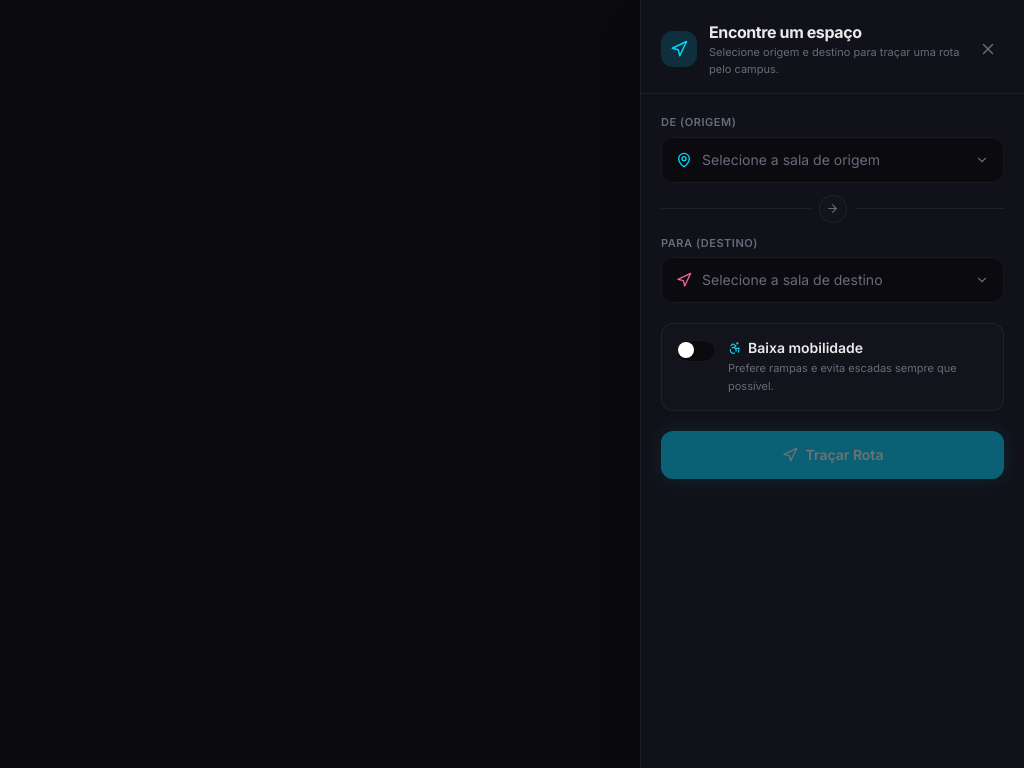
Test: RouteDrawer Component › deve selecionar origem e destino e calcular a rota com sucesso
This screenshot has width=1024, height=768.
# Abre Combobox de Origem e Seleciona Sala 01
Click the button "Selecione a sala de origem": (832, 160) [661, 136, 1004, 182]
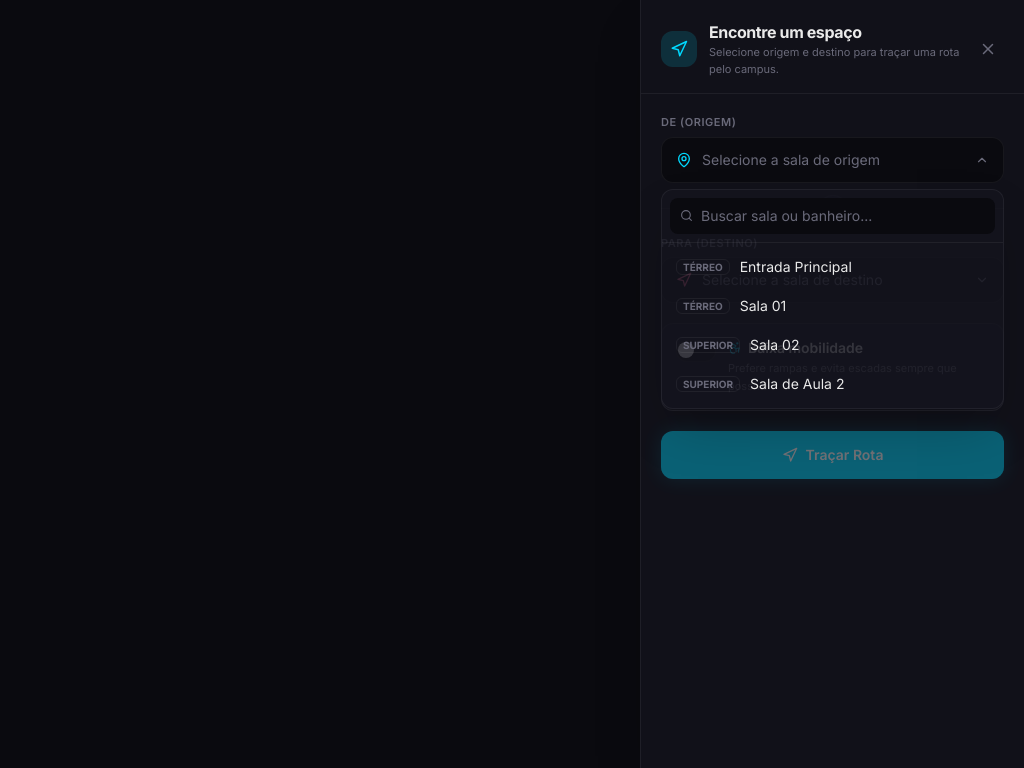
Click the text "Sala 01": (763, 305) [740, 296, 786, 315]
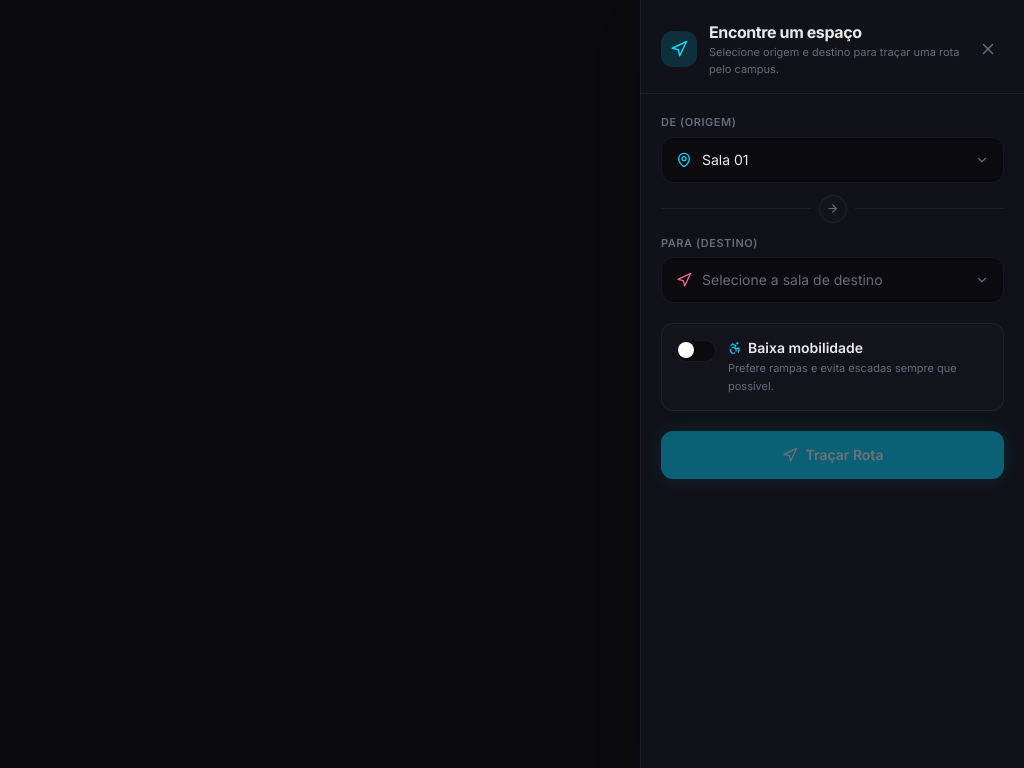
# Abre Combobox de Destino e Seleciona Sala 02
Click the button "Selecione a sala de destino": (832, 280) [661, 257, 1004, 303]
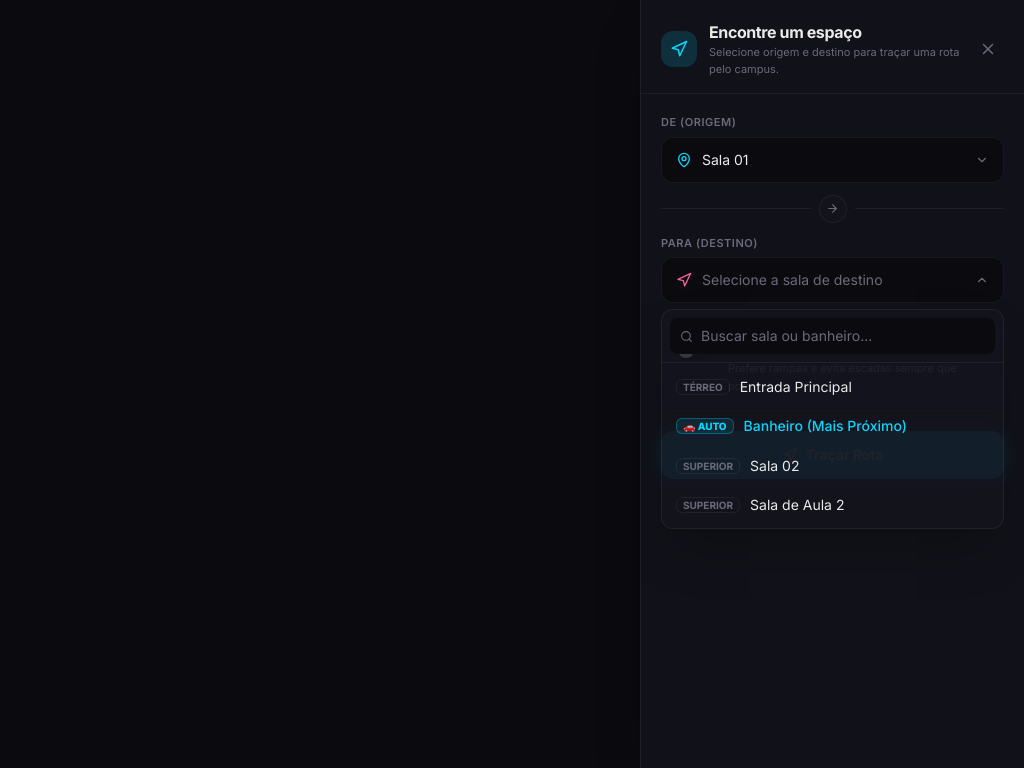
Click the text "Sala 02": (775, 465) [750, 456, 800, 475]
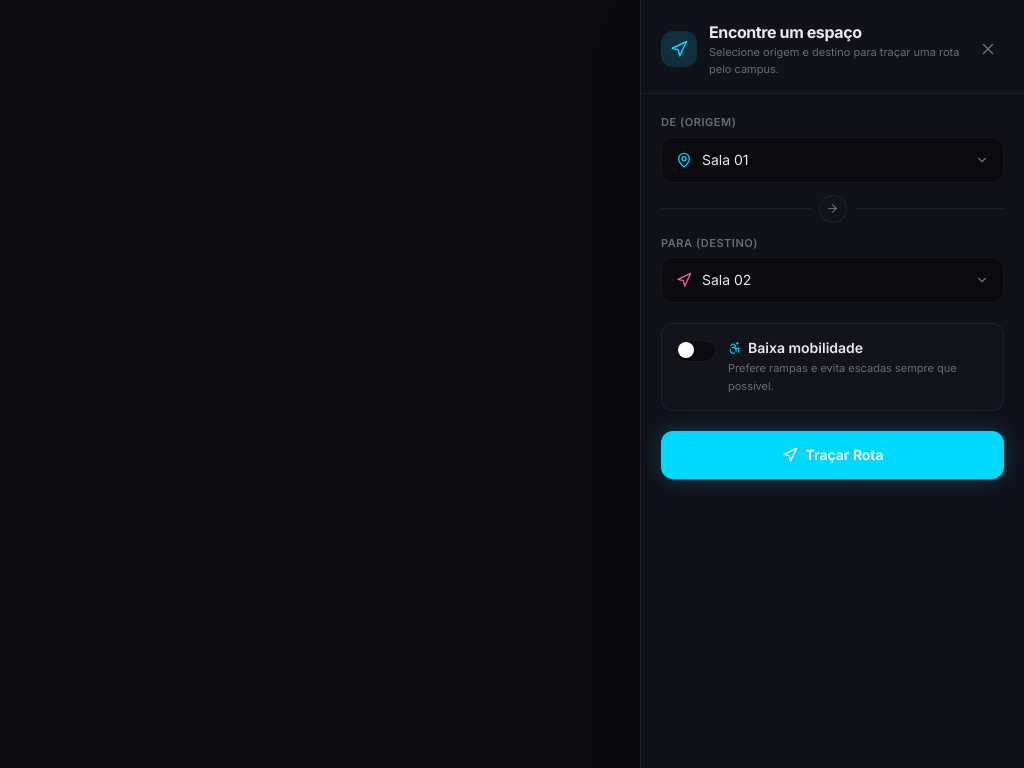
# Clica para Traçar Rota
Click the button "Traçar Rota": (832, 455) [661, 431, 1004, 479]
Wait 100 ms
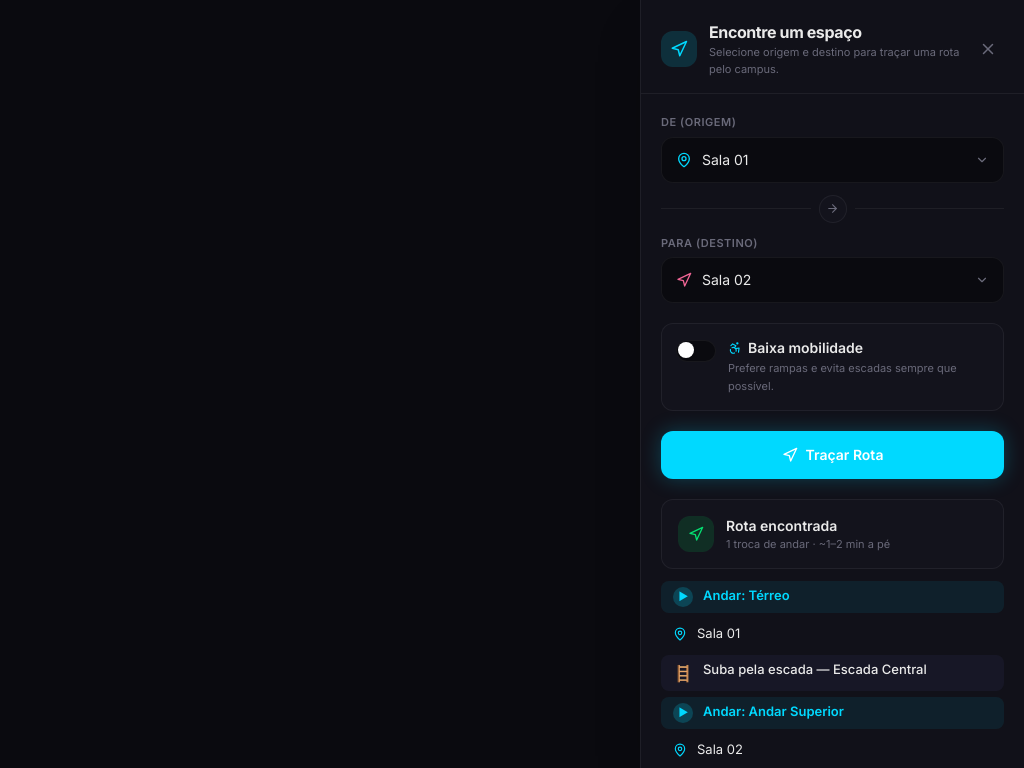
Check: the text "Rota encontrada" is shown, box [726, 517, 837, 534]
